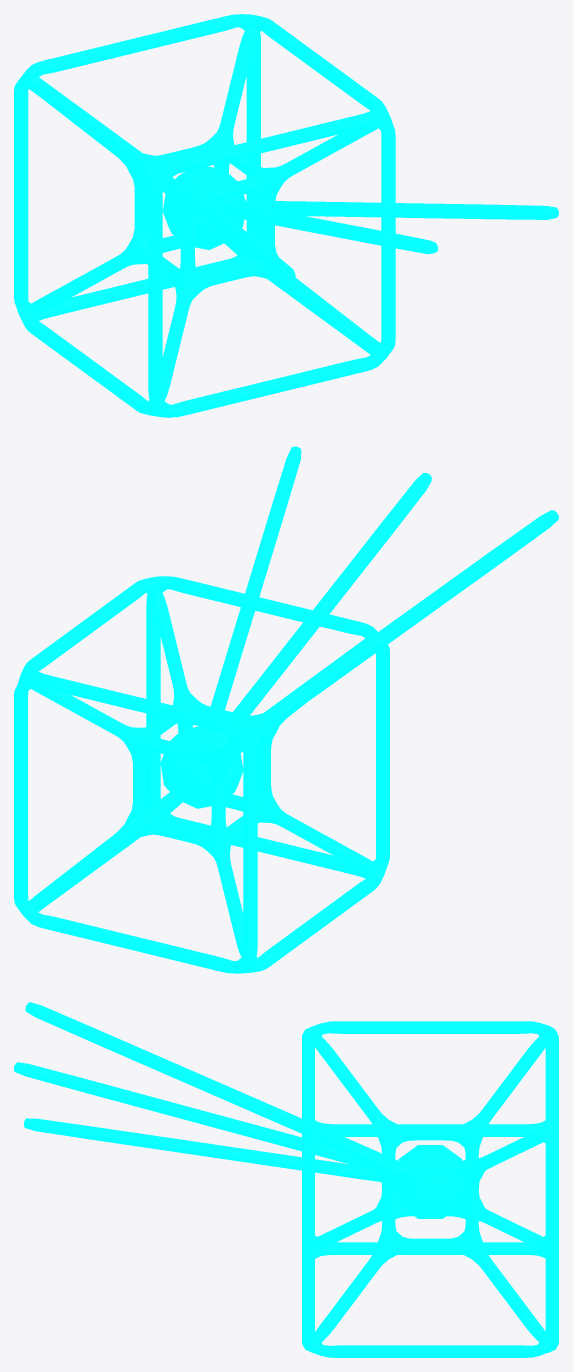
Rendered from тесерог.fbx.
The picture shows the model from 3 angles, top to bottom: view 1: azimuth 30°, elevation 25°; view 2: azimuth 150°, elevation 25°; view 3: azimuth 270°, elevation 25°; orthographic projection. The views are drawn at different scales.
Parts seen in each view (by area): view 1: Icosphere; view 2: Icosphere; view 3: Icosphere.
Part boxes in pixels (bbox=[...]): Icosphere: bbox=[14, 14, 558, 417]; Icosphere: bbox=[14, 446, 558, 973]; Icosphere: bbox=[14, 1002, 558, 1357].
Bounding box in the file's own units: 449 × 422 × 858.
